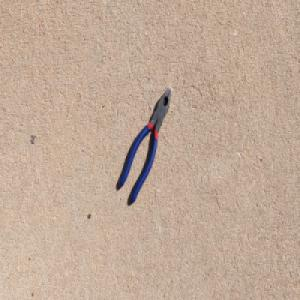Pliers: (118, 86, 172, 204)
